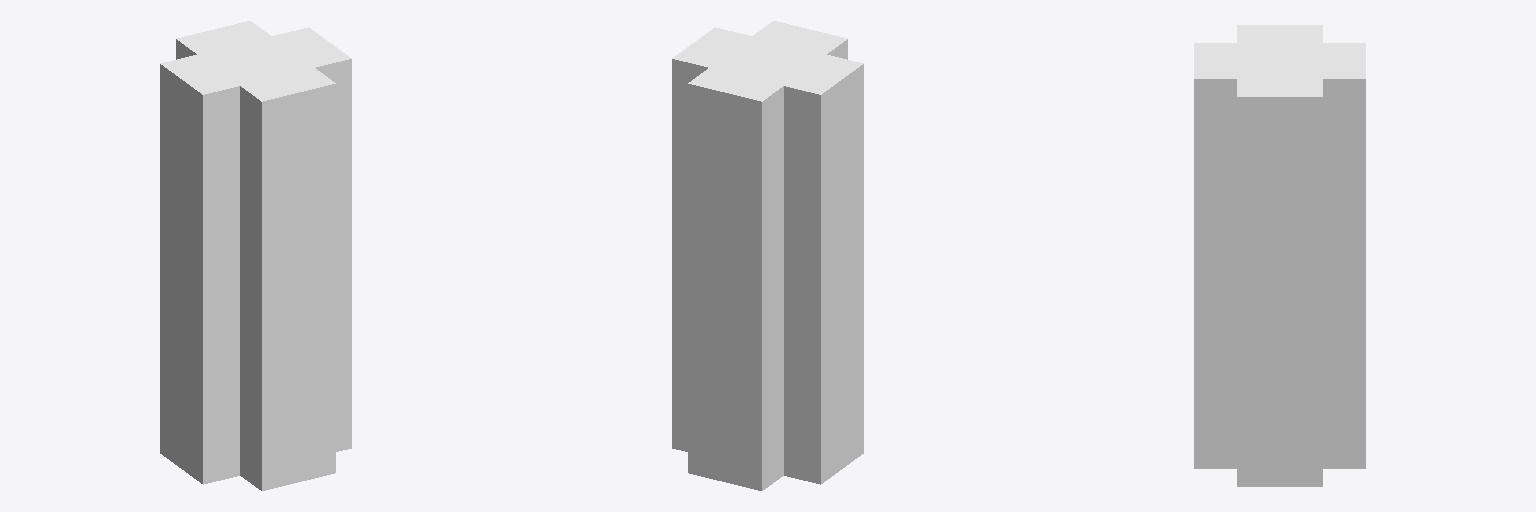
Rendered from red_pipe_simple_10.obj.
The picture shows the model from 3 angles: view 1: azimuth 30°, elevation 25°; view 2: azimuth 150°, elevation 25°; view 3: azimuth 270°, elevation 25°; orthographic projection.
Visible parts, largest first — view 1: object 1; view 2: object 1; view 3: object 1.
Boxes of the visible parts, <box> form: object 1: <box>160,21,351,490</box>; object 1: <box>672,21,863,490</box>; object 1: <box>1194,25,1365,486</box>.
Bounding box in the file's own units: 0.4 × 1 × 0.4.